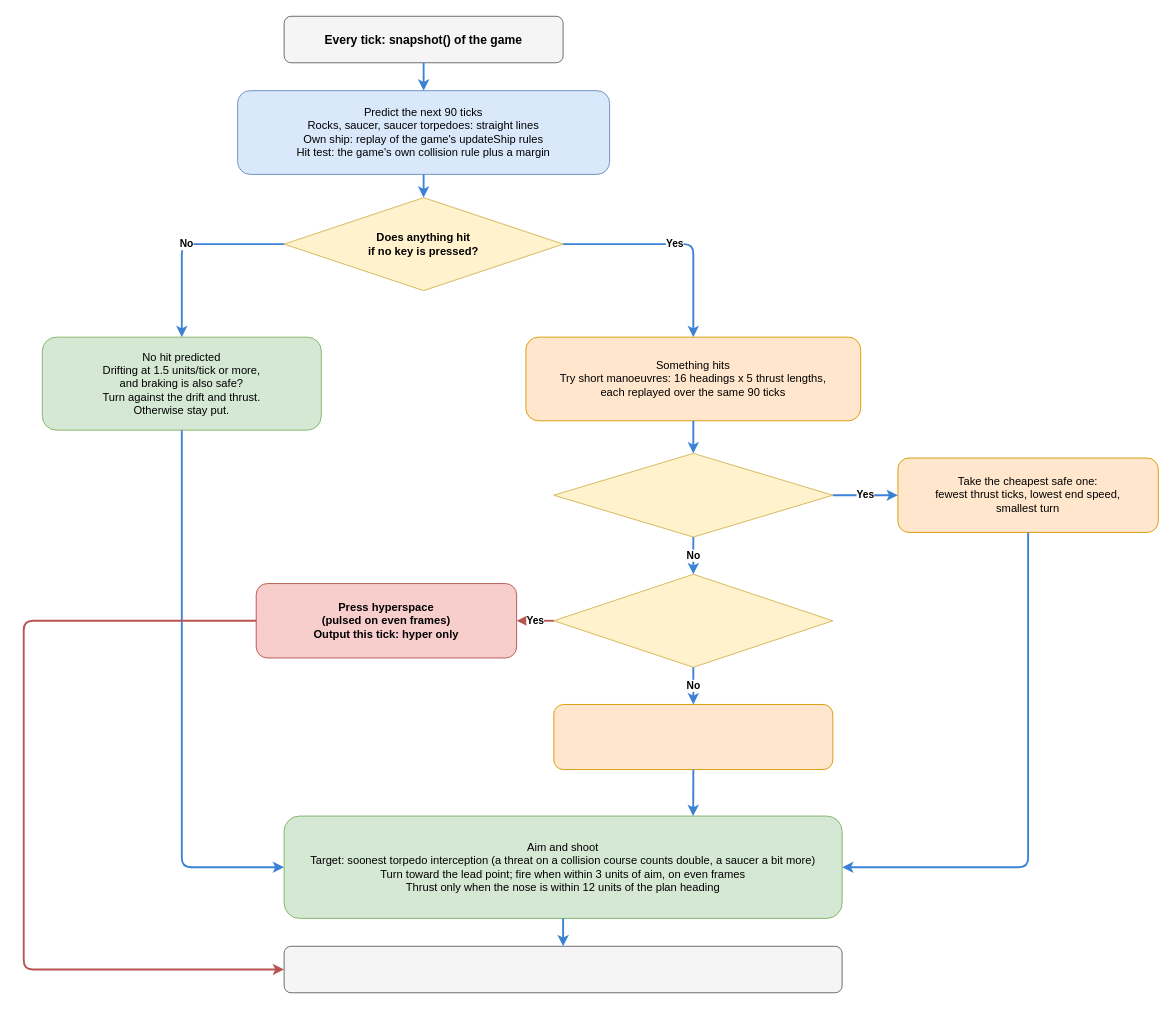
Image size: 1175x1009. Some labels were removed from this diagram. Each missing label, with the centre of its shape:
"A manoeuvre avoids every hit?" belongs at (693,494).
"Best effort: the manoeuvre that delays the hit the longest" belongs at (693,737).
"Hit within 8 ticks and hyperspace risk below 70%?" belongs at (693,620).
"Output: left, right, thrust, fire, hyper, plus a why string" belongs at (562,969).
